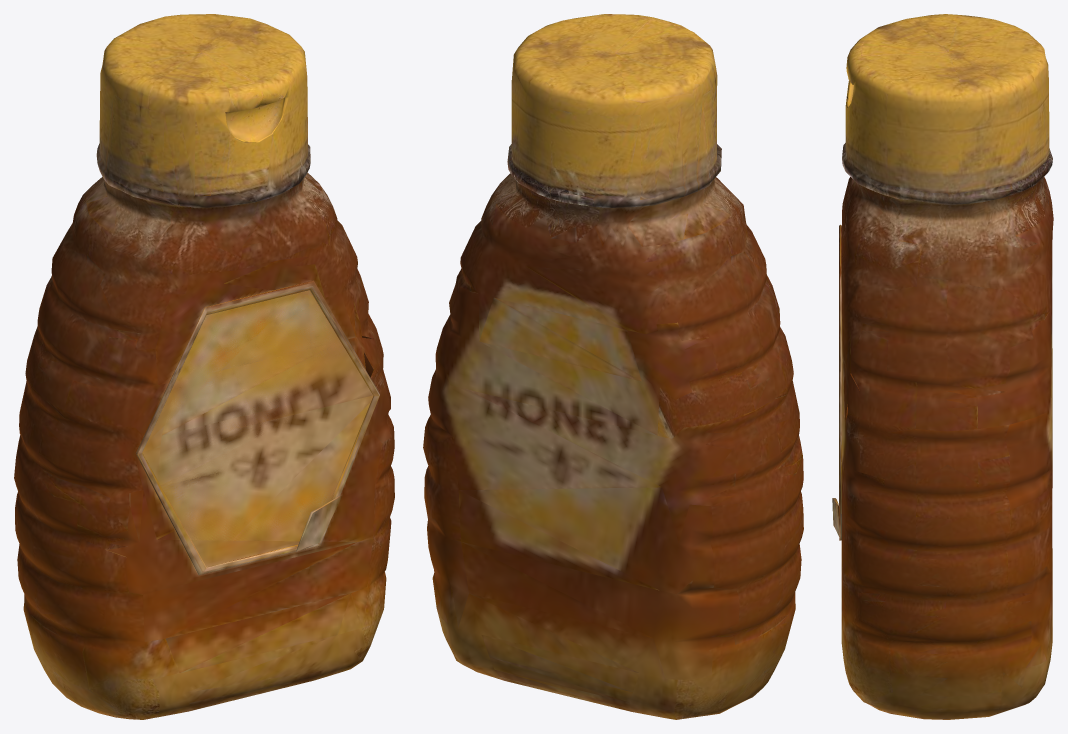
File: food-honey.glb
3 renders of one model, left to right at view 1: azimuth 30°, elevation 25°; view 2: azimuth 150°, elevation 25°; view 3: azimuth 270°, elevation 25°, orthographic.
Parts seen in each view (by area): view 1: food-honey; view 2: food-honey; view 3: food-honey.
Boxes of the visible parts, <box> form: food-honey: <box>14,14,394,719</box>; food-honey: <box>423,14,803,719</box>; food-honey: <box>832,14,1053,719</box>.
Size of the model in its own units: 0.0989 by 0.17 by 0.0563.
Materials: 1 (1 with a texture image).
